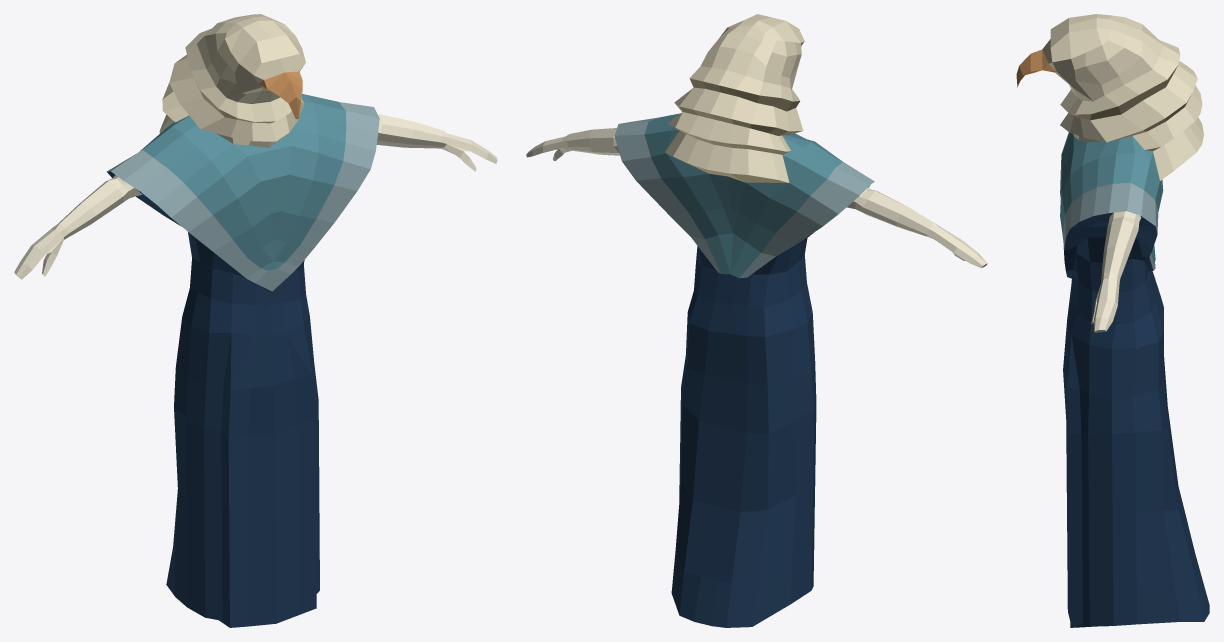
Rendered from EnemigoDispara.obj.
The picture shows the model from 3 angles, left to right: view 1: azimuth 30°, elevation 25°; view 2: azimuth 150°, elevation 25°; view 3: azimuth 270°, elevation 25°; orthographic projection. The views are drawn at different scales.
Parts seen in each view (by area): view 1: Cube.021; view 2: Cube.021; view 3: Cube.021.
Boxes of the visible parts, <box> form: Cube.021: <box>14,14,497,627</box>; Cube.021: <box>526,14,987,627</box>; Cube.021: <box>1016,14,1209,627</box>.
Size of the model in its own units: 1.69 by 2 by 0.5904.
